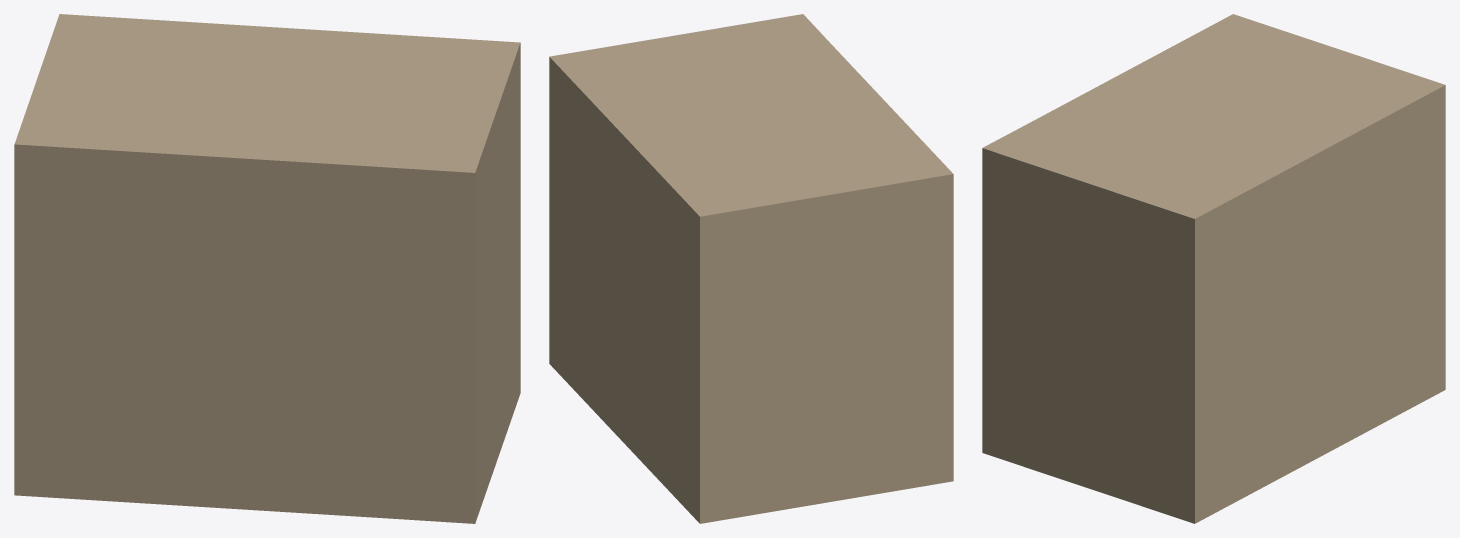
Rendered from bld_99519990.dae.
3 renders of one model, left to right at view 1: azimuth 30°, elevation 25°; view 2: azimuth 150°, elevation 25°; view 3: azimuth 270°, elevation 25°, orthographic. The views are drawn at different scales.
Visible parts, largest first — view 1: bld_99519990; view 2: bld_99519990; view 3: bld_99519990.
Boxes of the visible parts, x1,y1,x2,y2 form: bld_99519990: (14, 14, 520, 523); bld_99519990: (549, 14, 953, 523); bld_99519990: (982, 14, 1445, 523).
Bounding box in the file's own units: 11.54 × 11.03 × 8.
